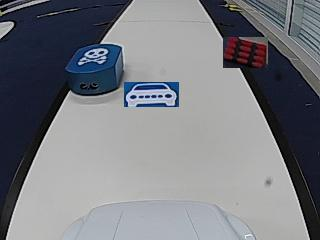danger: (77, 47, 106, 65)
